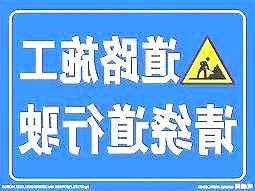sign: (6, 6, 248, 182)
